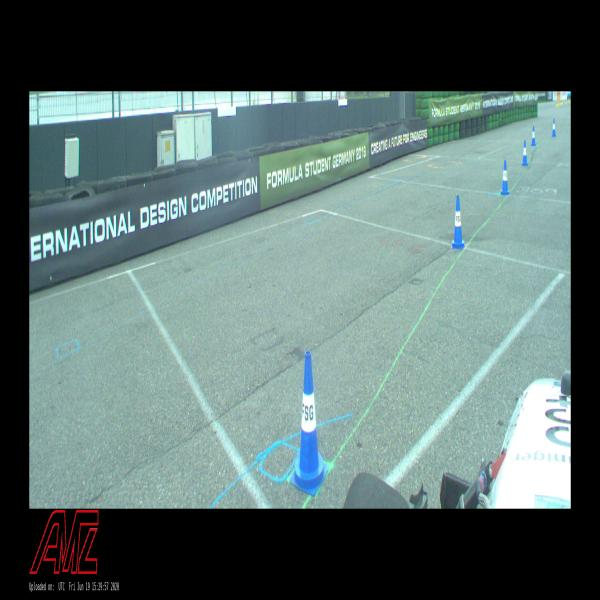blue_cone: (290, 350, 328, 495), (452, 196, 465, 249), (501, 160, 510, 195), (522, 140, 528, 166), (531, 126, 536, 146), (552, 119, 556, 136)
yellow_cone: (556, 100, 558, 107), (565, 97, 567, 104), (561, 98, 563, 104), (568, 97, 570, 103), (558, 99, 559, 106), (560, 98, 561, 105)
